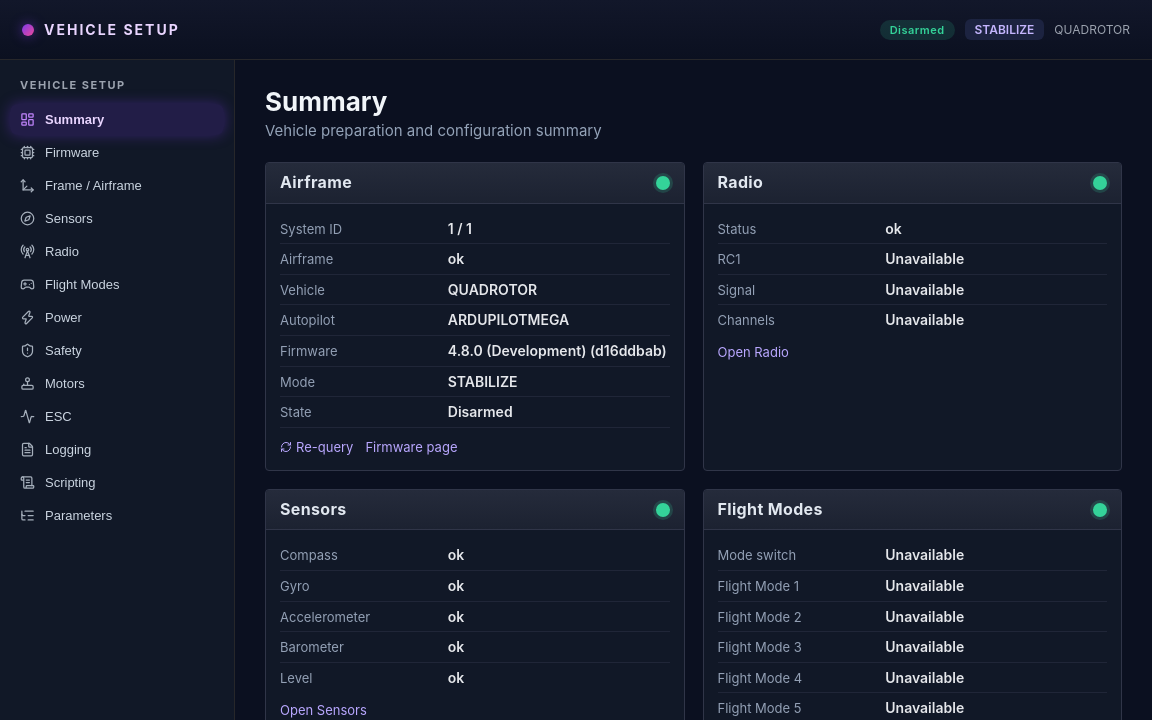
it: SetupConfig — shell and navigation › navigates to the Scripting page instead of the inactive stub
The image size is (1152, 720).
Click the button with test id "setup-nav-scripting" at (117, 482), box [10,467,224,498]
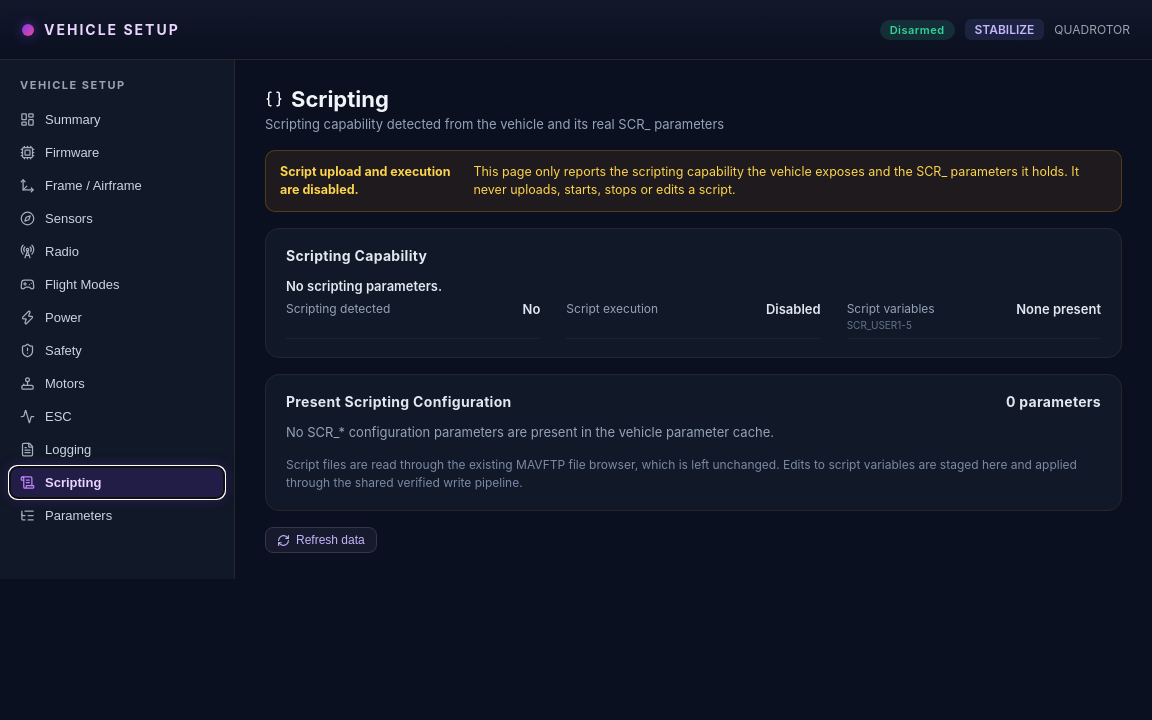
Check: the element with test id "setup-scripting" is shown, box [265,86,1122,553]
Check: the text with test id "scripting-detected" reads "No", box [522,301,540,317]
